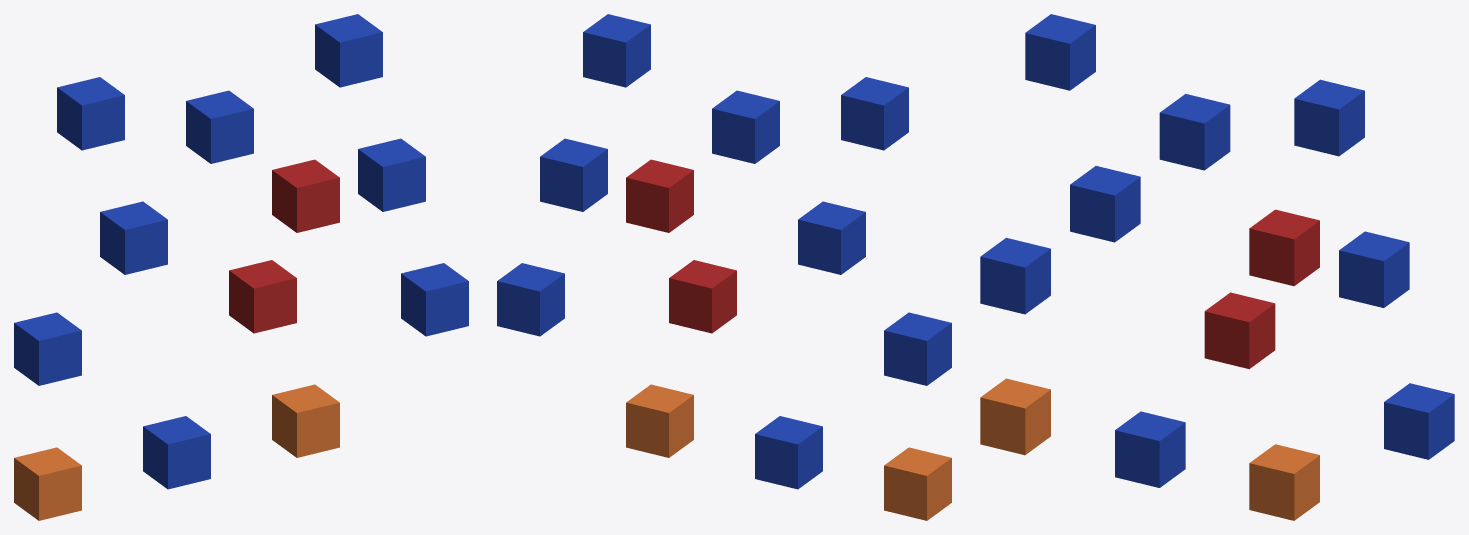
Rendered from Die7.obj.
3 views of the same model, side by side, from view 1: azimuth 30°, elevation 25°; view 2: azimuth 150°, elevation 25°; view 3: azimuth 330°, elevation 25° (orthographic). The views are drawn at different scales.
Size of the model in its own units: 1 by 0.9 by 0.1.
1 material, 1 textured.
